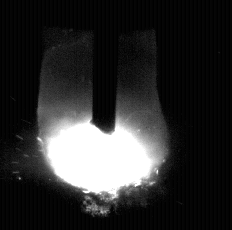arame: (93, 0, 118, 133)
poca: (36, 0, 168, 230)
